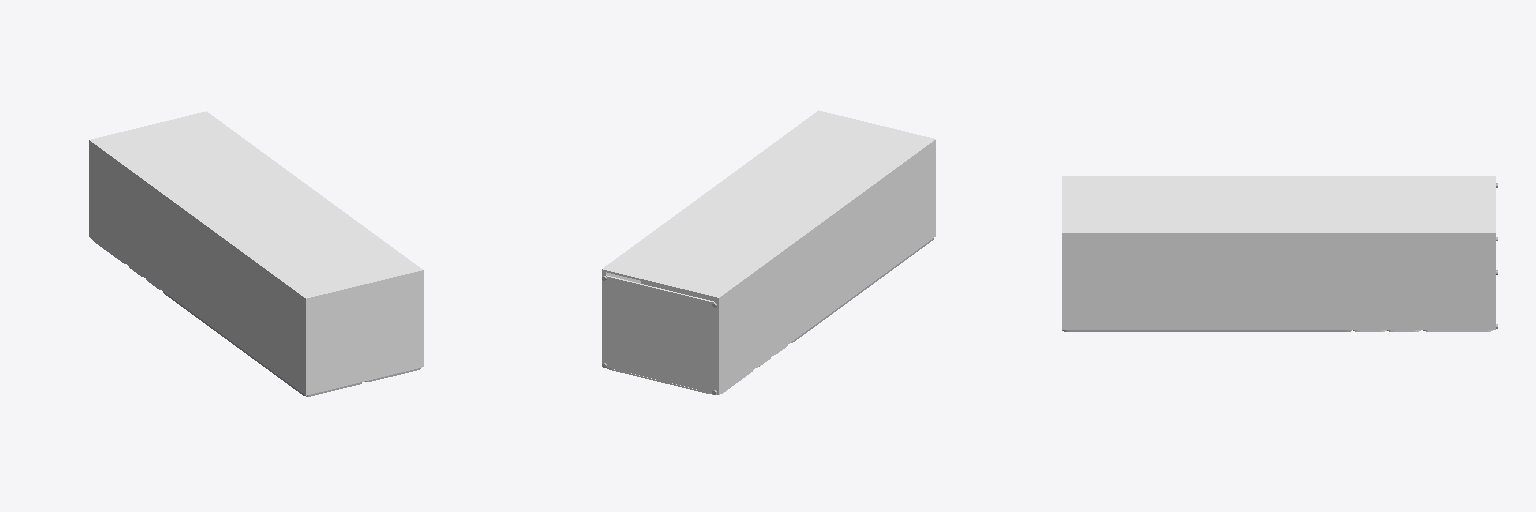
File: StuvaFritidsWardrobe_Black.obj
3 views of the same model, side by side, from view 1: azimuth 30°, elevation 25°; view 2: azimuth 150°, elevation 25°; view 3: azimuth 270°, elevation 25° (orthographic).
Visible parts, largest first — view 1: obj_0; view 2: obj_0; view 3: obj_0.
Boxes of the visible parts, x1=… form: obj_0: x1=89, y1=111, x2=423, y2=396; obj_0: x1=602, y1=110, x2=935, y2=394; obj_0: x1=1062, y1=176, x2=1497, y2=331.
Bounding box in the file's own units: 60.1 × 50 × 192.